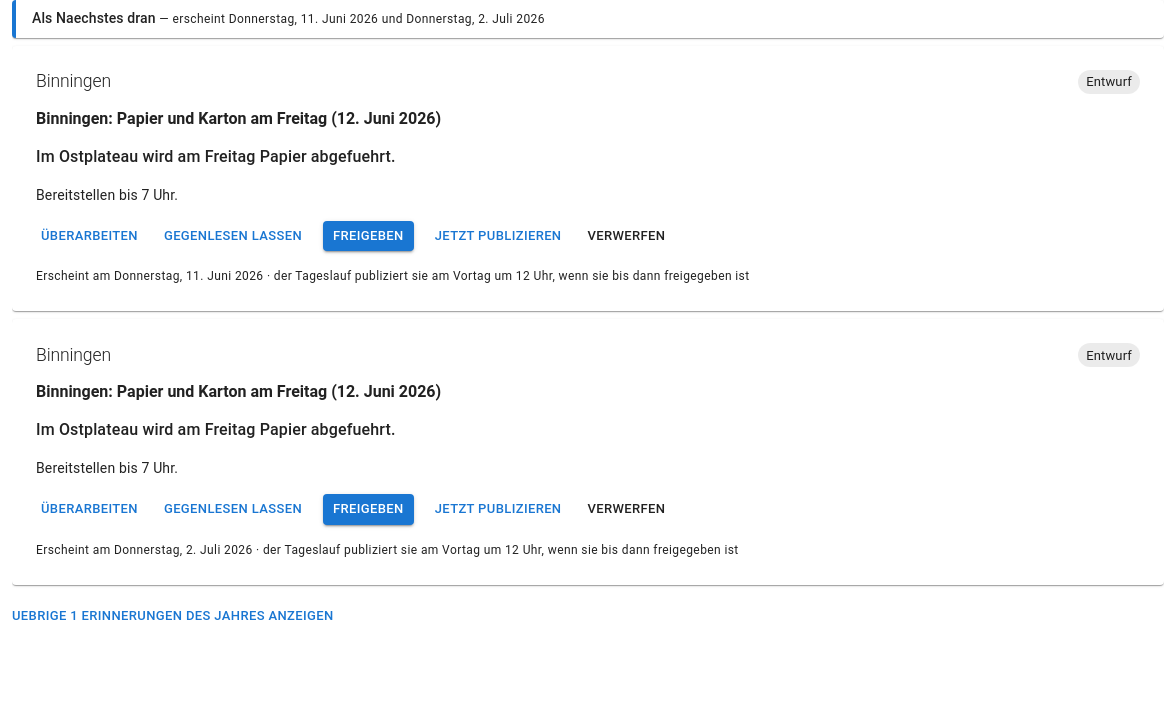
Test: EntsorgungMeldungen › zeigt nur die naechsten zwei und klappt den Rest weg
Expected: the heading "Als Naechstes dran" is shown, x1=32 y1=10 x2=156 y2=26
Expected: the text "September 2026" is not shown
Click the button "Uebrige 1 Erinnerungen des Jahres anzeigen" at (173, 616), box x1=12 y1=601 x2=334 y2=632
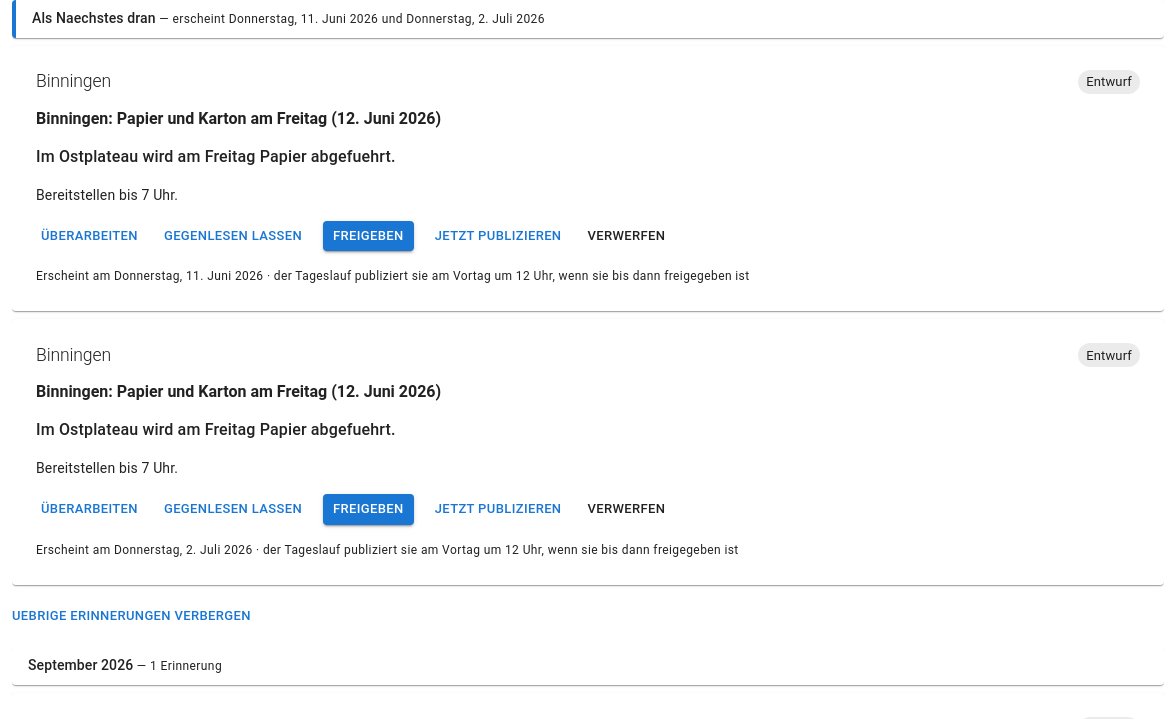
Expected: the heading "September 2026 — 1 Erinnerung" is shown, x1=28 y1=657 x2=222 y2=673
Expected: the text "— 1 Erinnerung" is shown once, x1=137 y1=659 x2=222 y2=673
